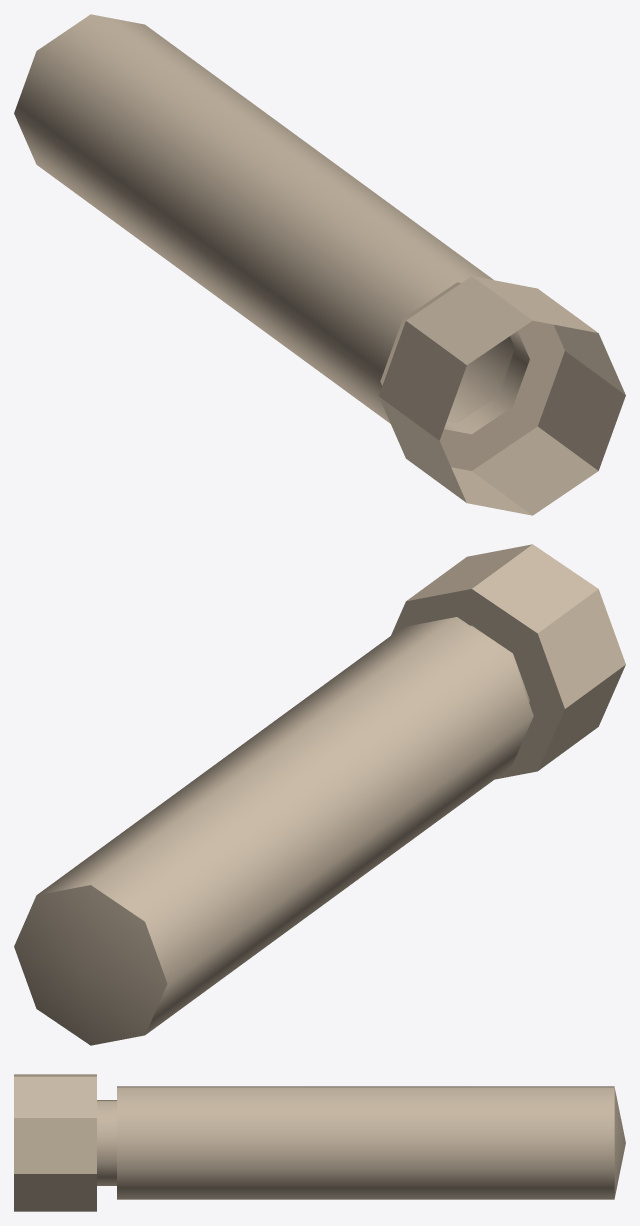
The model's file is Boton Vinihitorio.fbx.
The picture shows the model from 3 angles, top to bottom: view 1: azimuth 30°, elevation 25°; view 2: azimuth 150°, elevation 25°; view 3: azimuth 270°, elevation 25°; orthographic projection. The views are drawn at different scales.
Parts seen in each view (by area): view 1: BotonVinihitorio; view 2: BotonVinihitorio; view 3: BotonVinihitorio.
Boxes of the visible parts, x1,y1,x2,y2 form: BotonVinihitorio: (14, 14, 625, 515); BotonVinihitorio: (14, 544, 625, 1045); BotonVinihitorio: (14, 1074, 625, 1211).
Bounding box in the file's own units: 0.00946 × 0.00946 × 0.0396.
